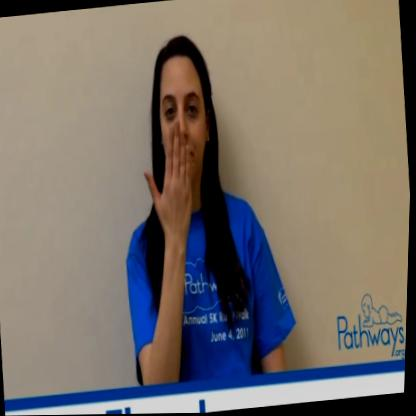ThankYou: (117, 22, 264, 319)
